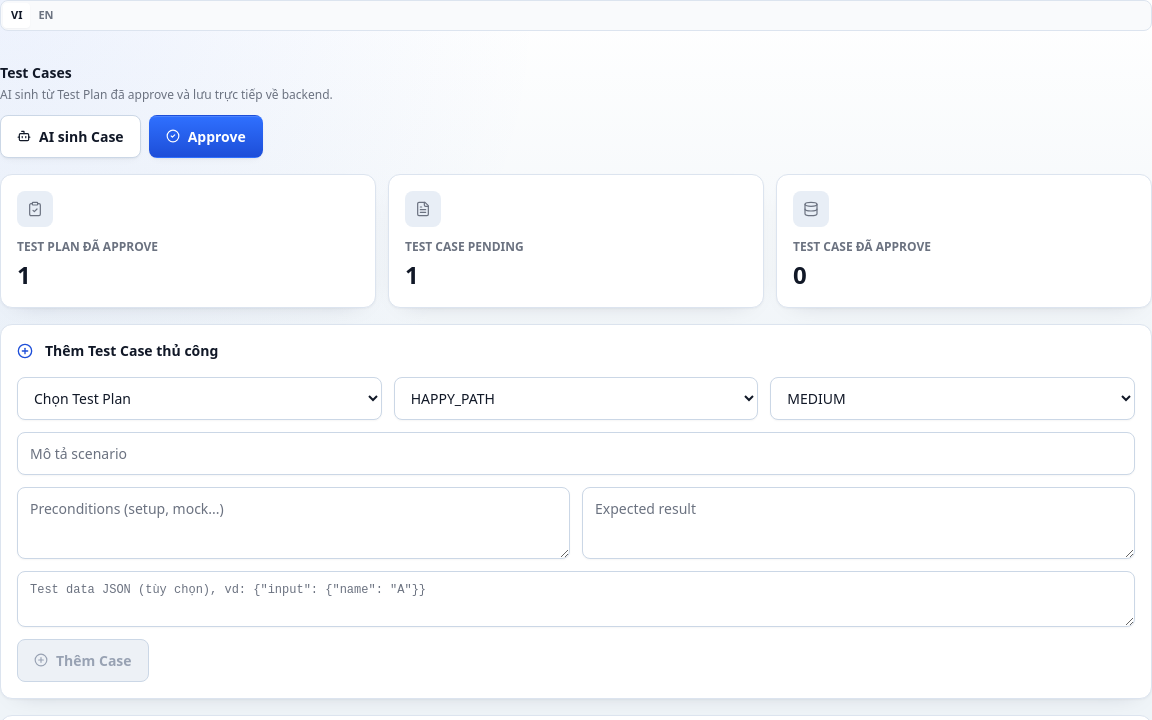
Test case: TestCasesPanel › switches type, priority and draft tags to the selected language
This screenshot has width=1152, height=720.
Click the button "EN": {"x": 46, "y": 15} [30,3,62,28]
(page scrolled)
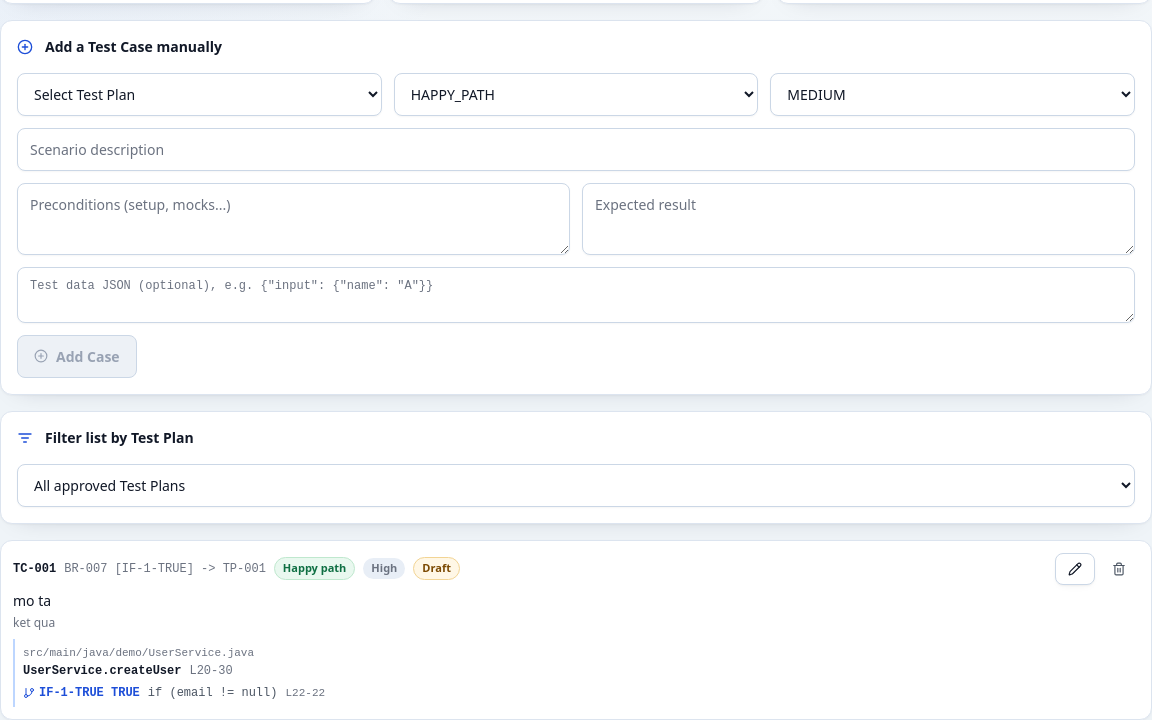
Check: the text "Happy path" is shown, box [274,557,355,580]
Check: the text "High" is shown, box [363,558,405,579]
